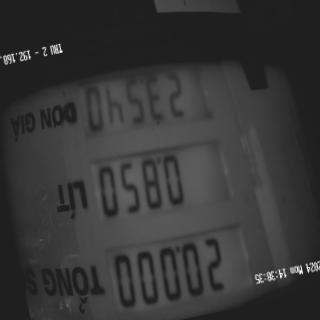screen: (57, 25, 261, 320)
